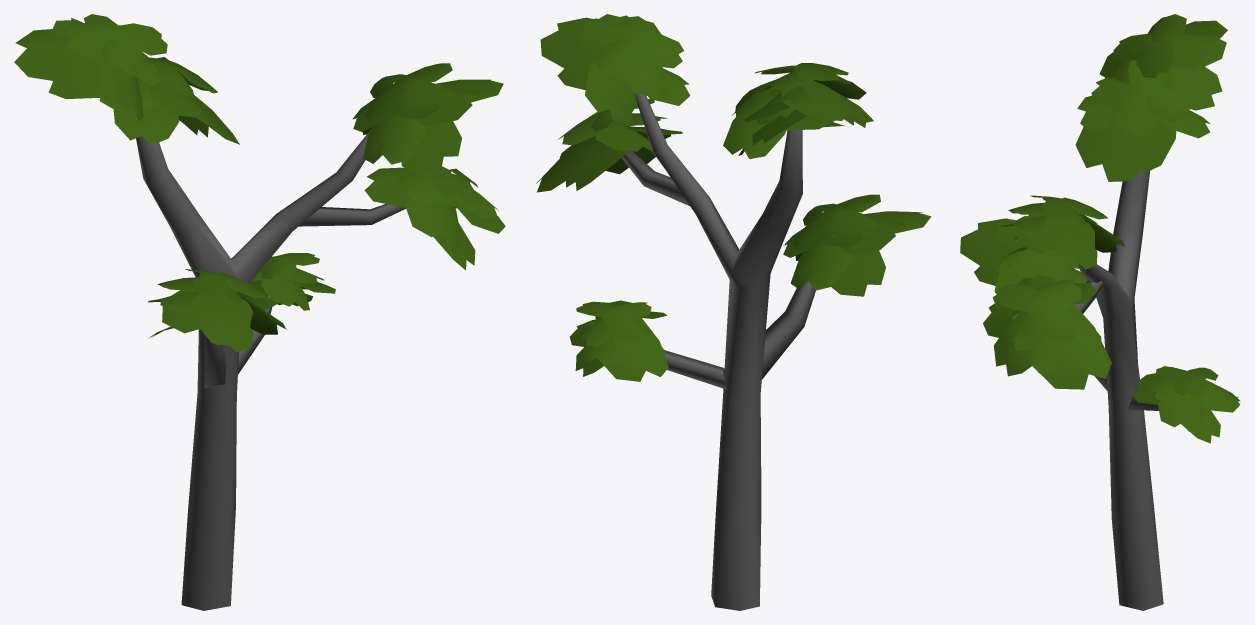
The model's file is Tree_type1.FBX.
The picture shows the model from 3 angles, left to right: view 1: azimuth 30°, elevation 25°; view 2: azimuth 150°, elevation 25°; view 3: azimuth 270°, elevation 25°; orthographic projection. The views are drawn at different scales.
Parts seen in each view (by area): view 1: Derevo_type3_01; view 2: Derevo_type3_01; view 3: Derevo_type3_01.
Boxes of the visible parts, x1,y1,x2,y2 form: Derevo_type3_01: (14, 14, 505, 610); Derevo_type3_01: (536, 14, 931, 610); Derevo_type3_01: (960, 14, 1240, 610).
Size of the model in its own units: 255 by 167 by 349.
